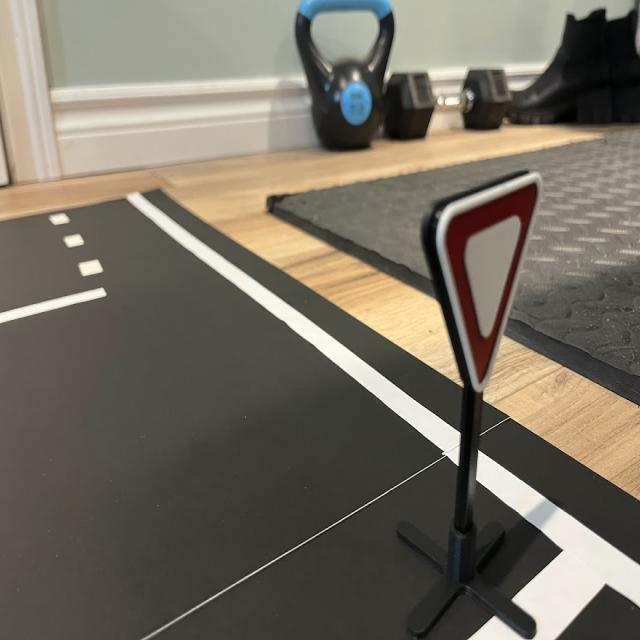sign_yield: (422, 174, 542, 392)
